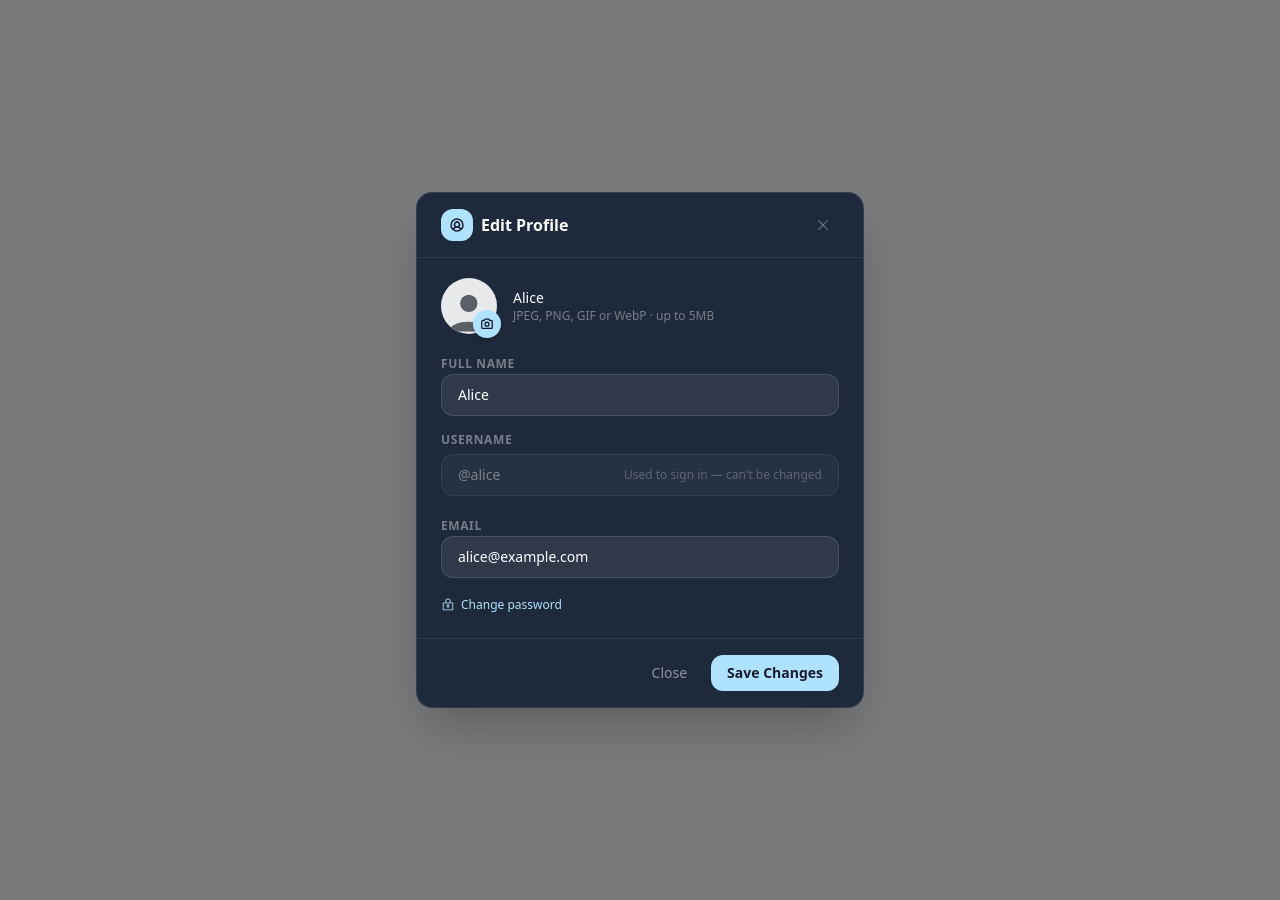
Test: text fields › shows the server's message when the email is taken
Replace the text in the field labelled "Email" with "taken@example.com" at (640, 557), box [441,536,839,578]
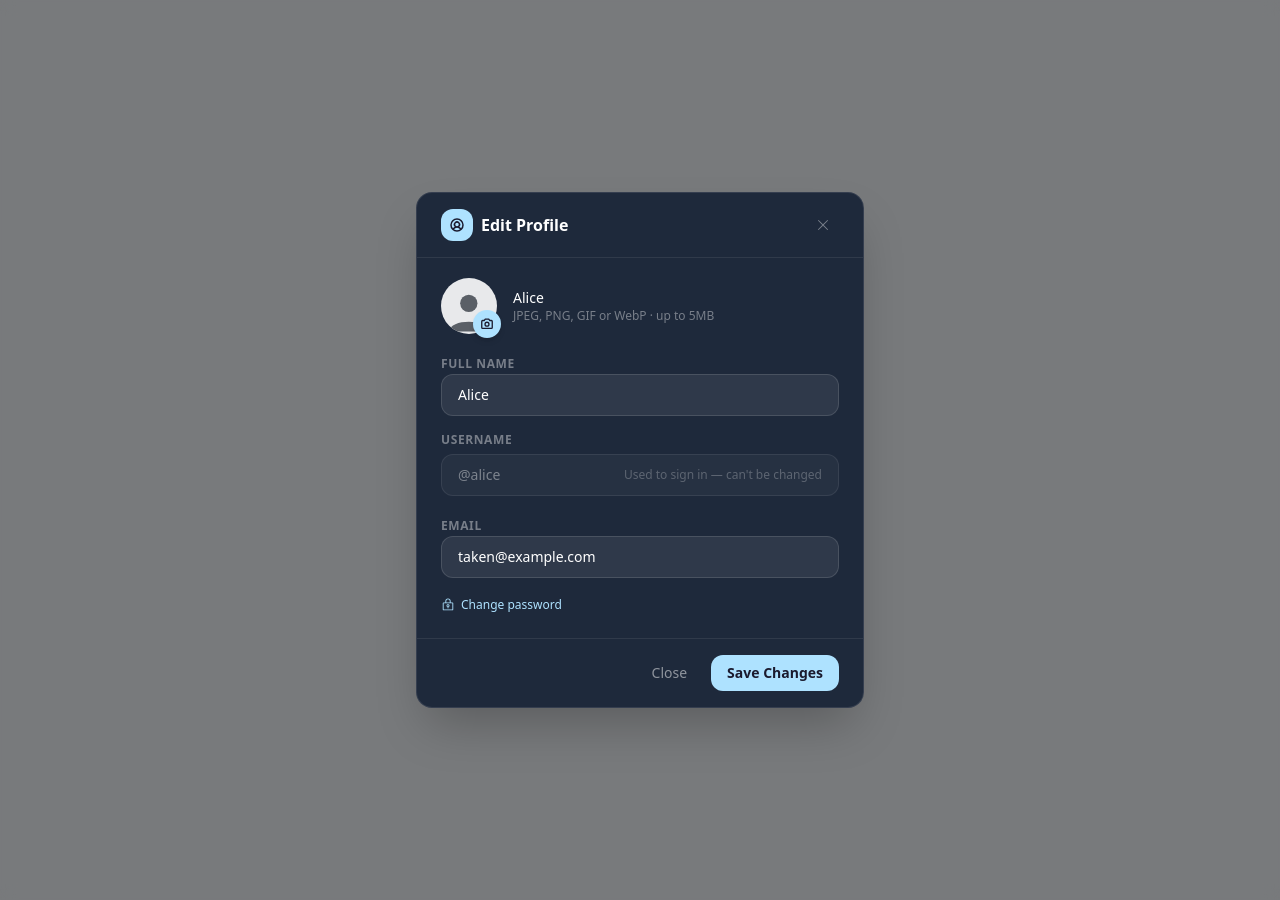
Click the button "Save Changes".
click(775, 673)  # box [711,655,839,691]
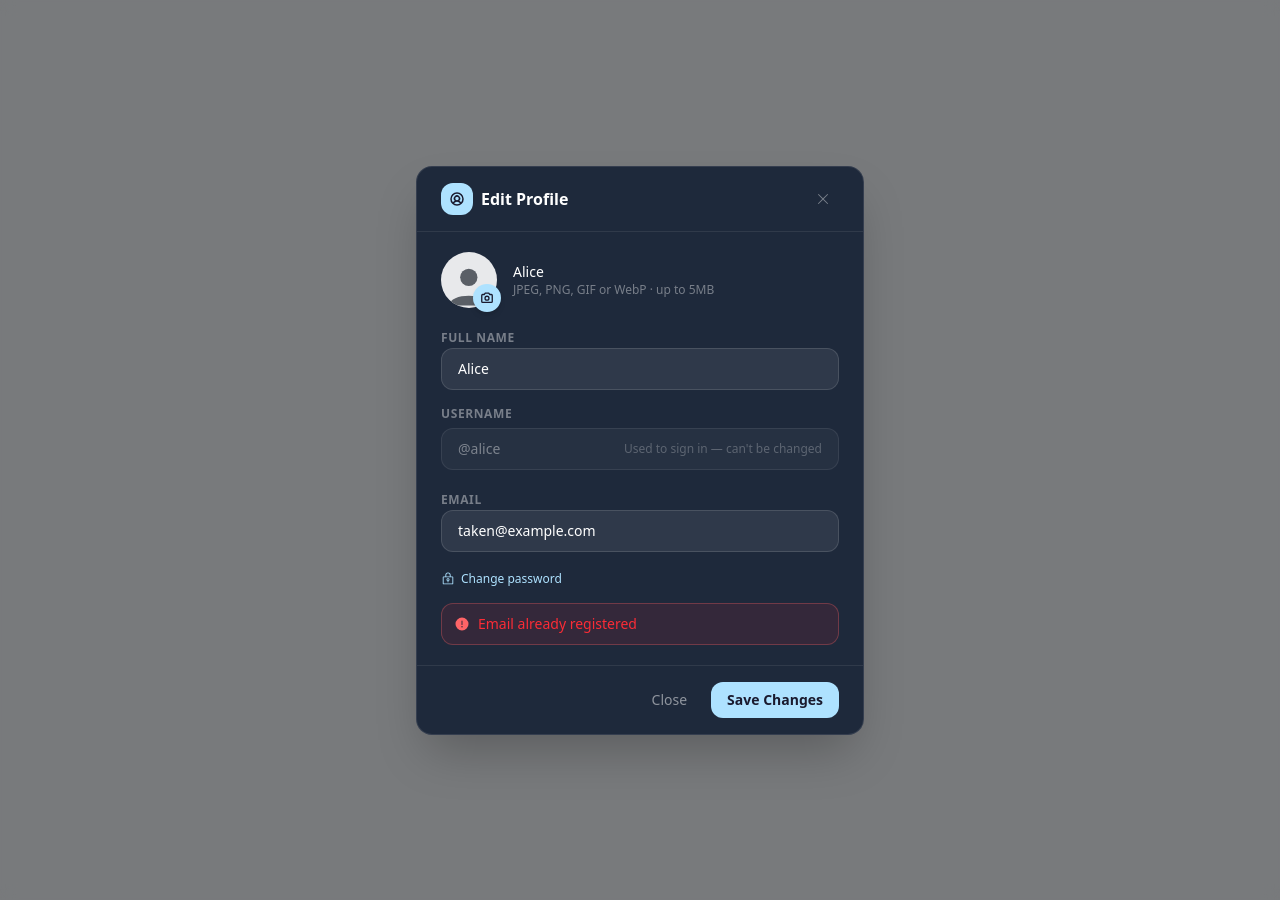
Expected: the text "Email already registered" is shown, [478,614,637,634]
